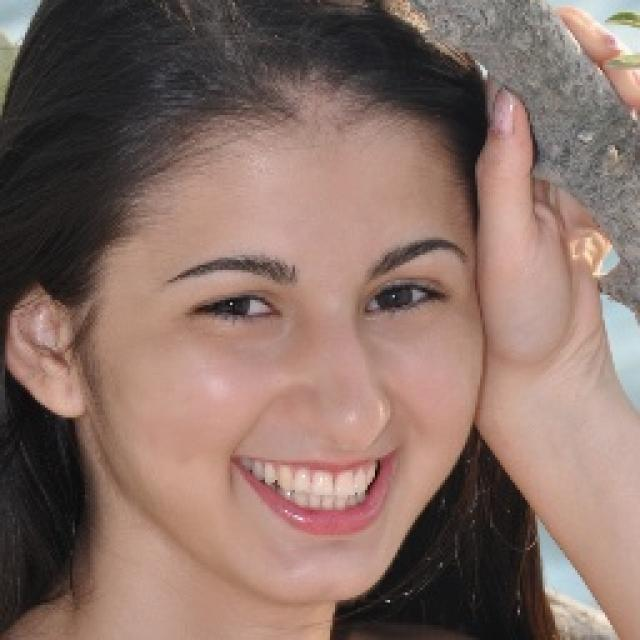earlobe: (2, 281, 93, 421)
